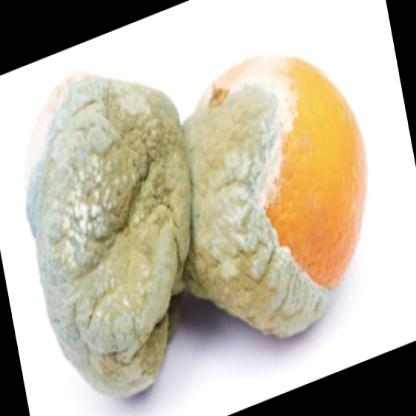rotten: (32, 79, 192, 400), (200, 55, 367, 340)
